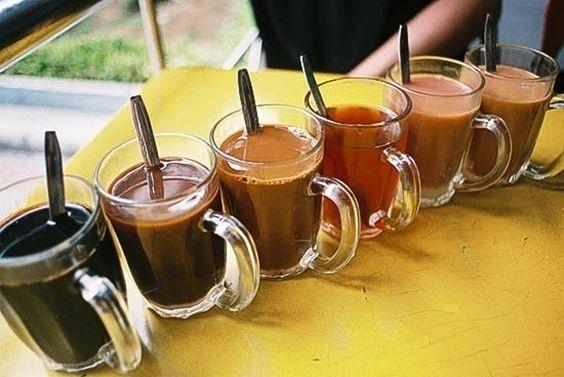glass-mug: (93, 130, 262, 323), (0, 170, 144, 377), (208, 101, 362, 284), (301, 74, 422, 242), (385, 54, 512, 211), (462, 40, 564, 190)
